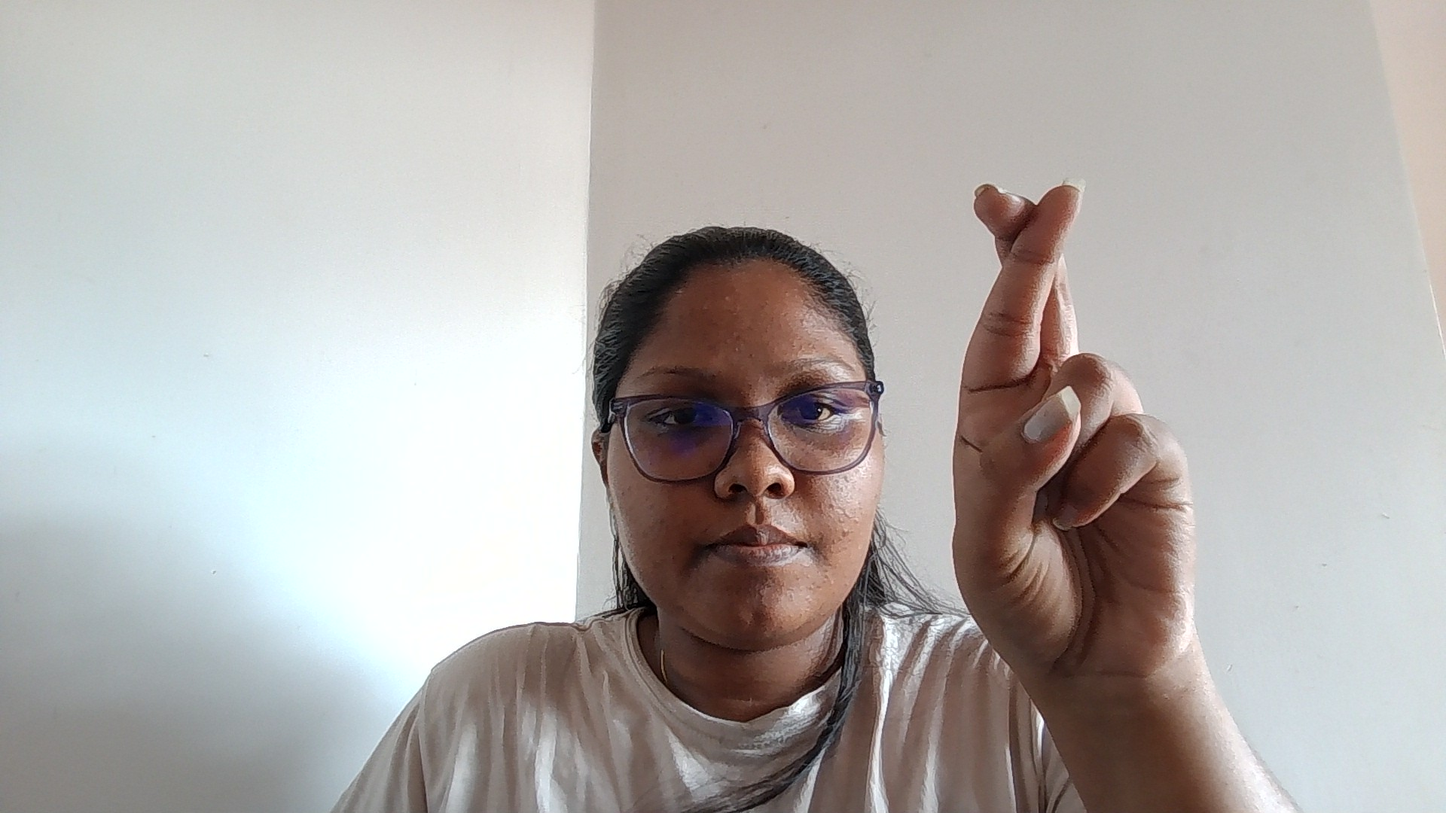Good_Luck: (909, 119, 1347, 753)
